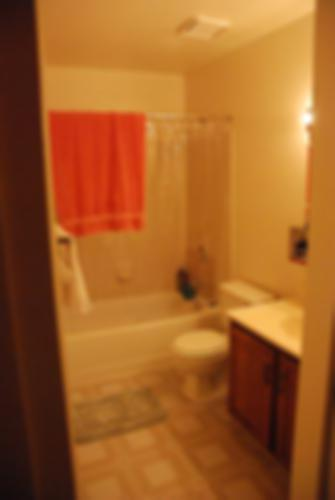Lavamanos: (273, 301, 334, 354)
Sanitario: (171, 282, 270, 409)
